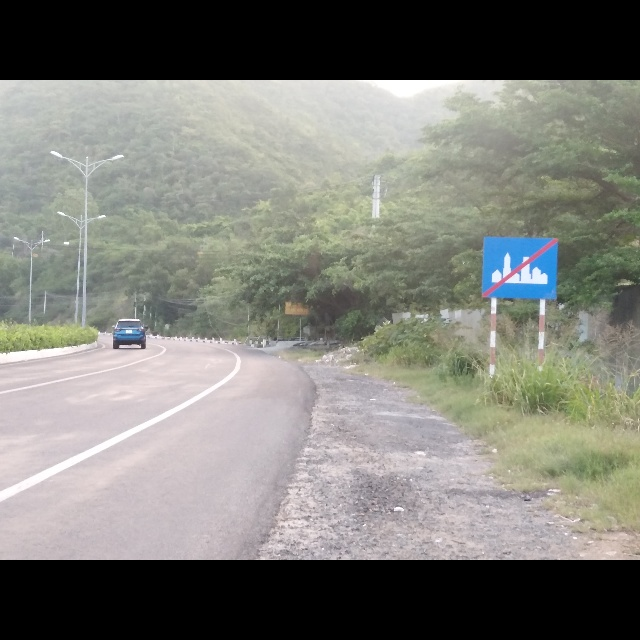Hết khu đông dân cư: (481, 234, 559, 301)
